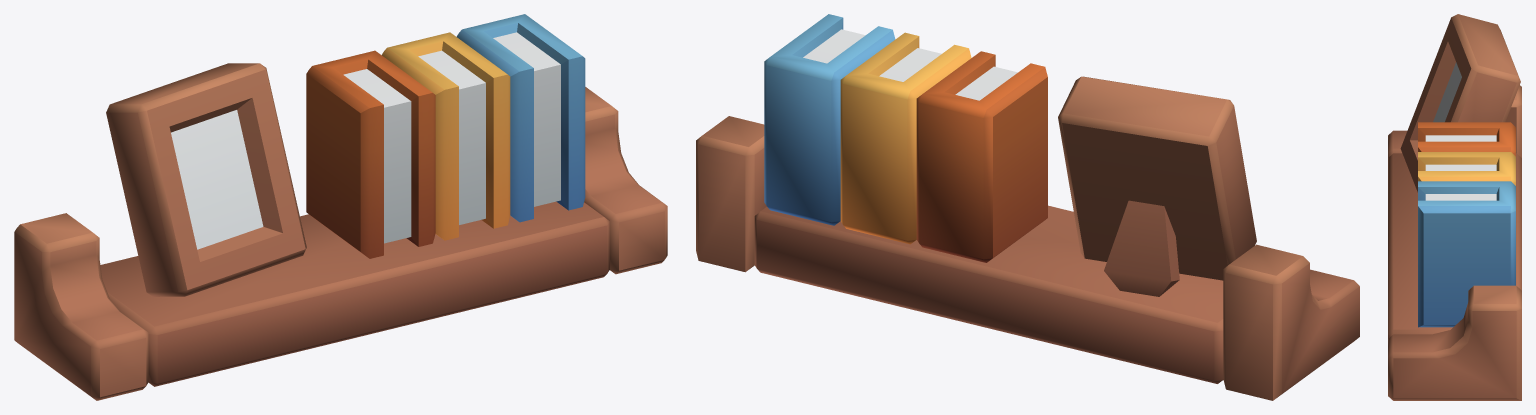
File: shelf_B_large_decorated.glb
The picture shows the model from 3 angles, left to right: view 1: azimuth 30°, elevation 25°; view 2: azimuth 150°, elevation 25°; view 3: azimuth 270°, elevation 25°; orthographic projection. The views are drawn at different scales.
Parts seen in each view (by area): view 1: shelf_B_large_decorated; view 2: shelf_B_large_decorated; view 3: shelf_B_large_decorated.
Part boxes in pixels (x1=…): shelf_B_large_decorated: x1=14, y1=14, x2=667, y2=400; shelf_B_large_decorated: x1=696, y1=14, x2=1359, y2=400; shelf_B_large_decorated: x1=1388, y1=14, x2=1521, y2=400.
Bounding box in the file's own units: 2 × 0.8175 × 0.5.
1 material, 1 textured.
